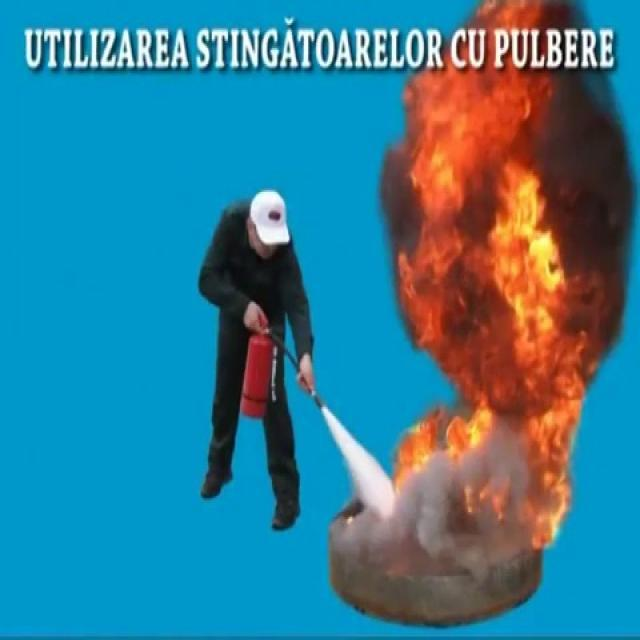Fire: (393, 64, 616, 542)
